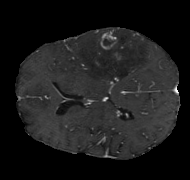Edema: (76, 28, 156, 81)
EnhancingTumors: (100, 32, 118, 58)
Necrosis: (100, 31, 129, 77)
